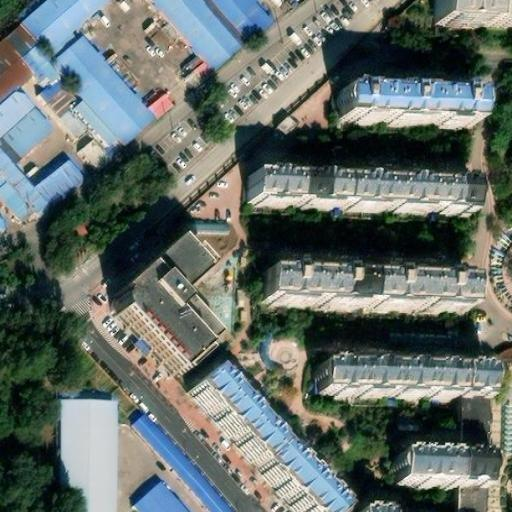building: (193, 370, 342, 512), (52, 35, 178, 149), (118, 240, 216, 379), (131, 411, 233, 512), (250, 172, 475, 210), (264, 267, 466, 307), (56, 395, 118, 512), (321, 362, 492, 397), (21, 0, 117, 57), (338, 90, 479, 126), (70, 98, 125, 159), (398, 452, 489, 487), (208, 0, 275, 44), (436, 0, 512, 29), (36, 74, 82, 119), (133, 480, 192, 512), (74, 135, 114, 175), (461, 396, 488, 453), (58, 108, 93, 146), (460, 487, 487, 512), (361, 499, 400, 512)
